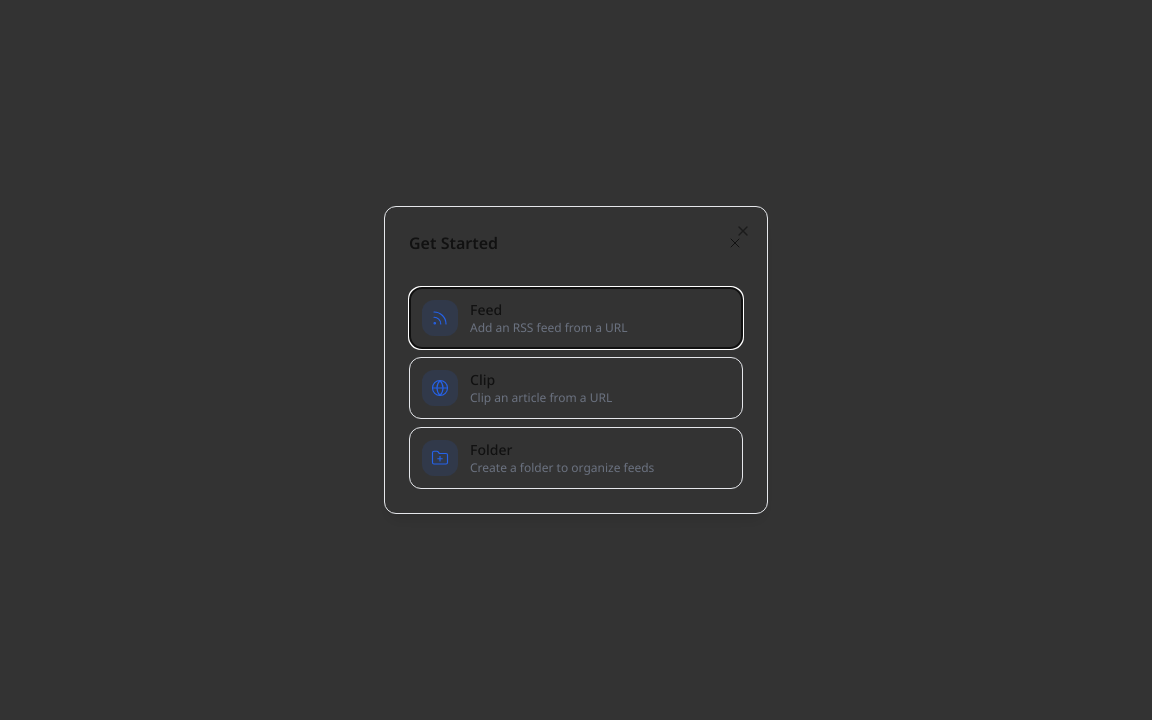
FeedModal › navigates to folder step on click
The width and height of the screenshot is (1152, 720).
Click the text "Create a folder to organize feeds".
click(562, 468)  # box [470, 460, 654, 476]
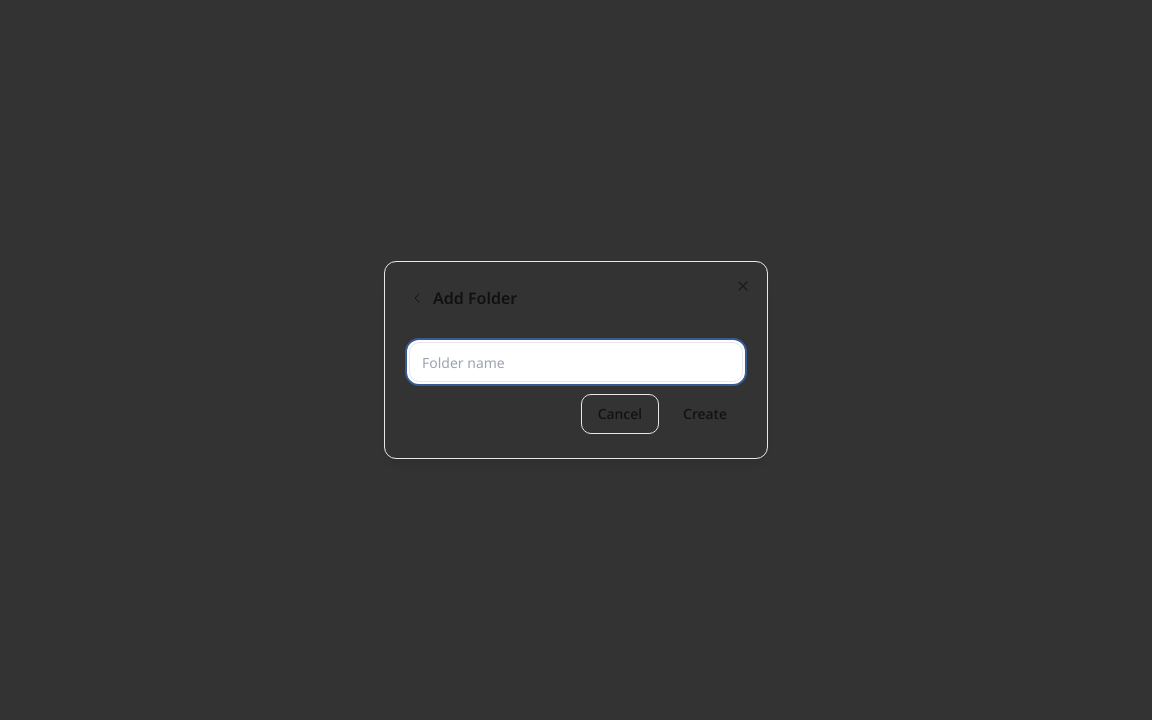
Expected: the heading "Add Folder" is shown, [433, 286, 517, 310]
